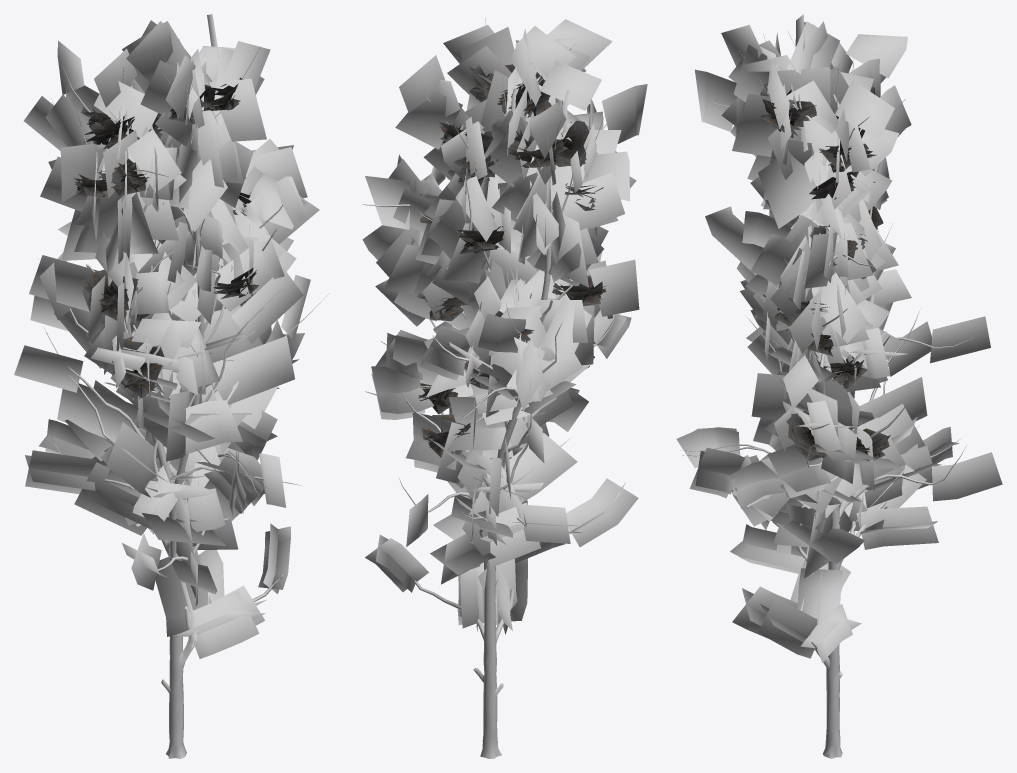
Rendered from Old_Horror_Tree10729.fbx.
3 views of the same model, side by side, from view 1: azimuth 30°, elevation 25°; view 2: azimuth 150°, elevation 25°; view 3: azimuth 270°, elevation 25° (orthographic). The views are drawn at different scales.
Parts seen in each view (by area): view 1: Old_Horror_Tree10729_Branches_08, Old_Horror_Tree10729_diffus, Old_Horror_Tree10729_RiverBirchBark, Old_Horror_Tree10729_IMG_20160420_16230723; view 2: Old_Horror_Tree10729_Branches_08, Old_Horror_Tree10729_diffus, Old_Horror_Tree10729_RiverBirchBark, Old_Horror_Tree10729_IMG_20160420_16230723; view 3: Old_Horror_Tree10729_Branches_08, Old_Horror_Tree10729_diffus, Old_Horror_Tree10729_RiverBirchBark, Old_Horror_Tree10729_IMG_20160420_16230723.
Boxes of the visible parts, x1,y1,x2,y2 form: Old_Horror_Tree10729_Branches_08: (14, 14, 319, 658); Old_Horror_Tree10729_diffus: (73, 77, 279, 398); Old_Horror_Tree10729_RiverBirchBark: (63, 46, 283, 758); Old_Horror_Tree10729_IMG_20160420_16230723: (38, 99, 329, 694); Old_Horror_Tree10729_Branches_08: (362, 19, 647, 634); Old_Horror_Tree10729_diffus: (417, 64, 606, 457); Old_Horror_Tree10729_RiverBirchBark: (362, 18, 619, 758); Old_Horror_Tree10729_IMG_20160420_16230723: (399, 119, 603, 696); Old_Horror_Tree10729_Branches_08: (676, 14, 1002, 663); Old_Horror_Tree10729_diffus: (760, 83, 890, 460); Old_Horror_Tree10729_RiverBirchBark: (710, 30, 907, 758); Old_Horror_Tree10729_IMG_20160420_16230723: (680, 58, 983, 685).
Size of the model in its own units: 48.95 by 53.59 by 131.
